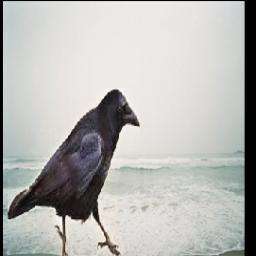Crow: (8, 89, 140, 256)
